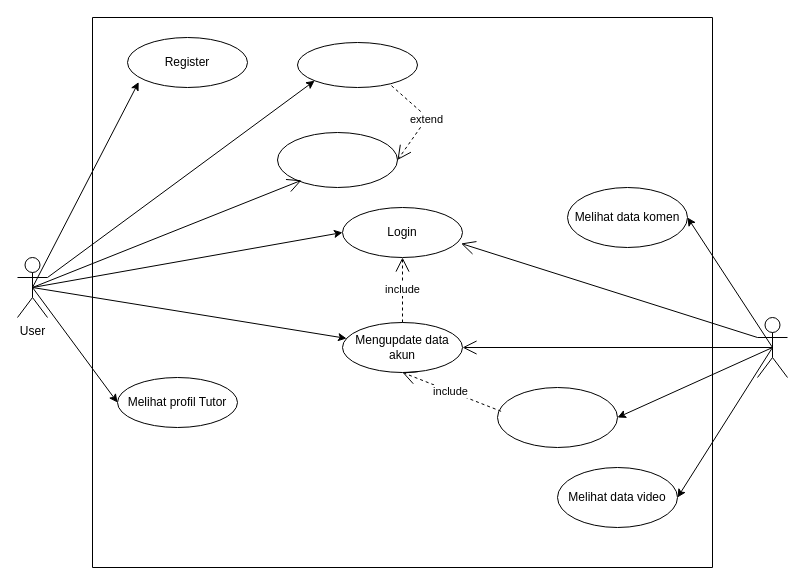
Image size: 807x585. Some labels were removed from this diagram. The centre of each missing label's shape, as x and y in pixels:
Admin: point (772, 347)
Melihat data user: point (557, 417)
Melihat video pembelajaran: point (357, 65)
Meninggalkan komen: point (337, 160)
